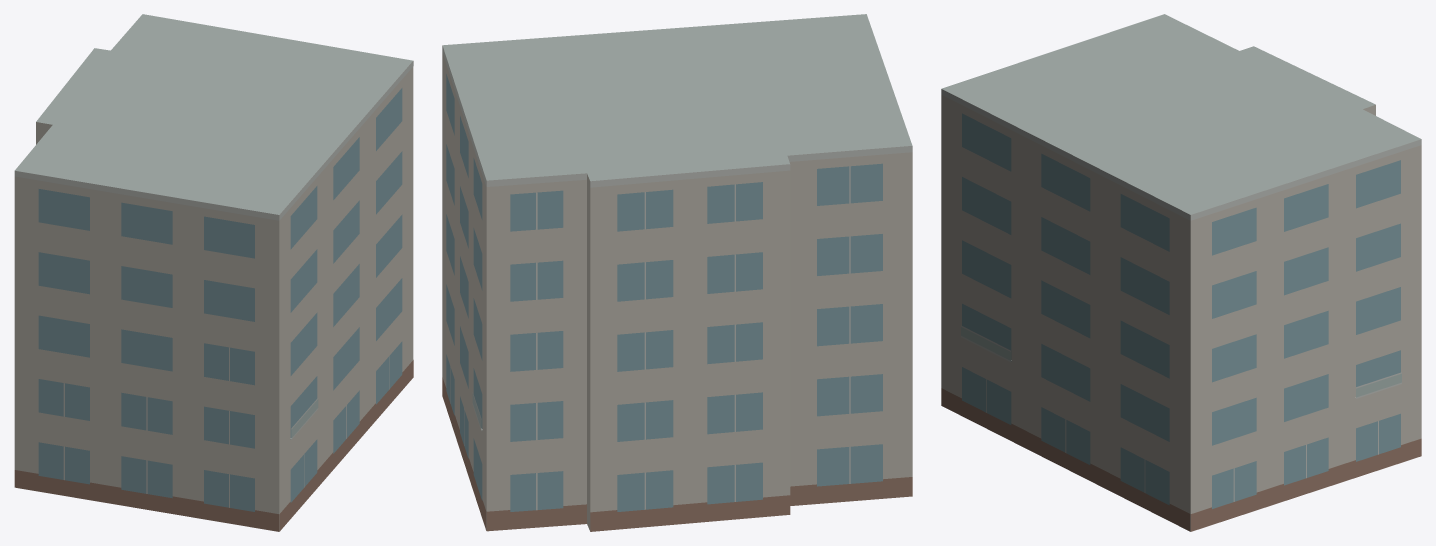
Rendered from survey-upis-33041038.glb.
3 renders of one model, left to right at view 1: azimuth 30°, elevation 25°; view 2: azimuth 150°, elevation 25°; view 3: azimuth 270°, elevation 25°, orthographic. The views are drawn at different scales.
Parts seen in each view (by area): view 1: survey-upis-33041038.tmp; view 2: survey-upis-33041038.tmp; view 3: survey-upis-33041038.tmp.
Part boxes in pixels (bbox=[...]): survey-upis-33041038.tmp: bbox=[14, 14, 413, 531]; survey-upis-33041038.tmp: bbox=[442, 14, 912, 531]; survey-upis-33041038.tmp: bbox=[941, 14, 1421, 531].
Bounding box in the file's own units: 18.1 × 13.3 × 18.28.
